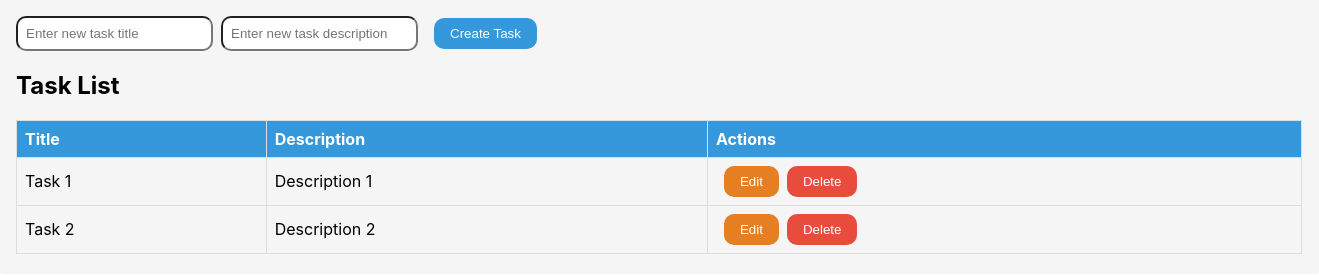
Test: TaskList Component › updates an existing task
Wait for tasks to be loaded
Step 1. Click the button "Edit" in the row of "Task 1" → (752, 181), box [724, 166, 779, 197]
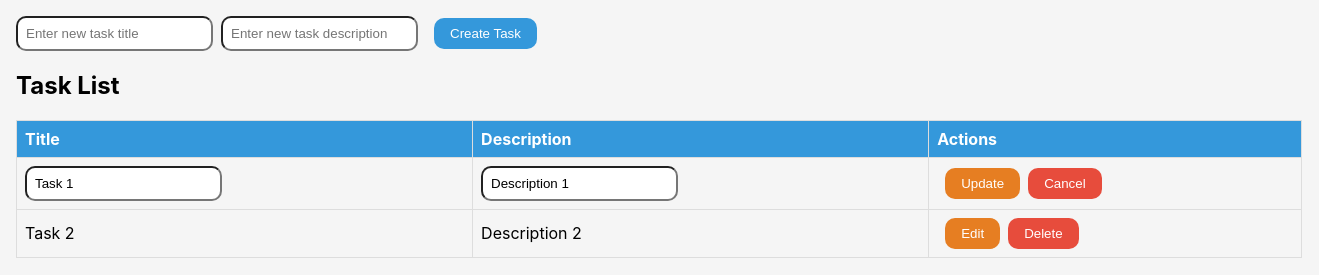
Simulate updating the task
Step 2. Type "Updated Task" into the field with placeholder "Enter new task title" → (114, 34), box [16, 16, 213, 51]
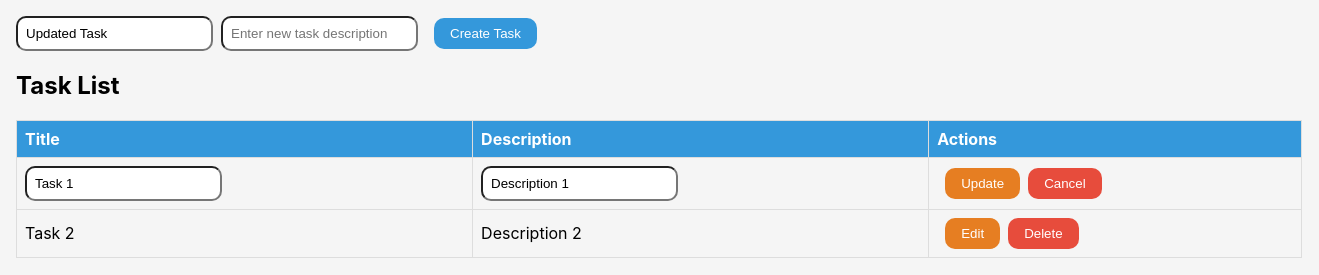
Step 3. Type "Updated Description" into the field with placeholder "Enter new task description" → (320, 34), box [221, 16, 418, 51]
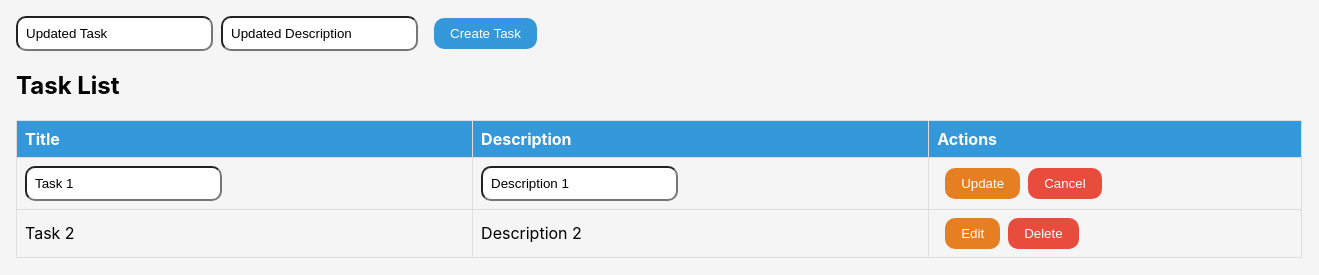
Step 4. Click the button "Update" → (983, 183), box [945, 168, 1020, 199]
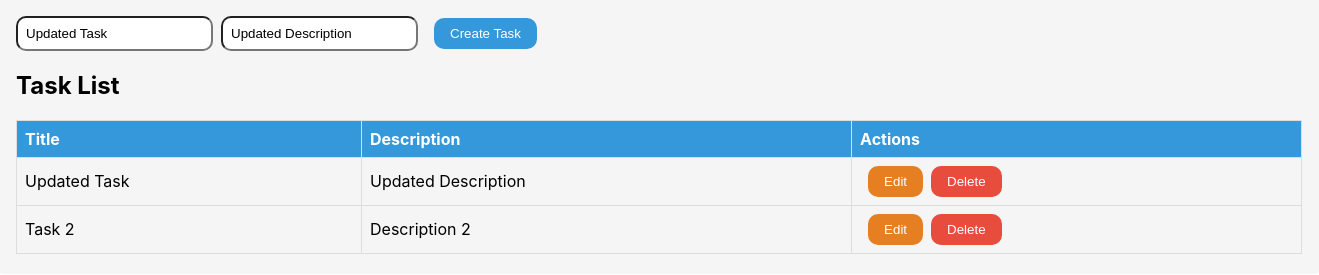
Result: the text "Updated Task" is shown at [16, 157, 362, 205]
Result: the text "Updated Description" is shown at [362, 157, 852, 205]
